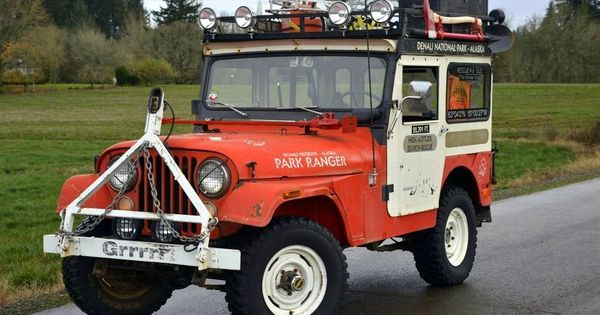Vehicle: (39, 1, 495, 315)
